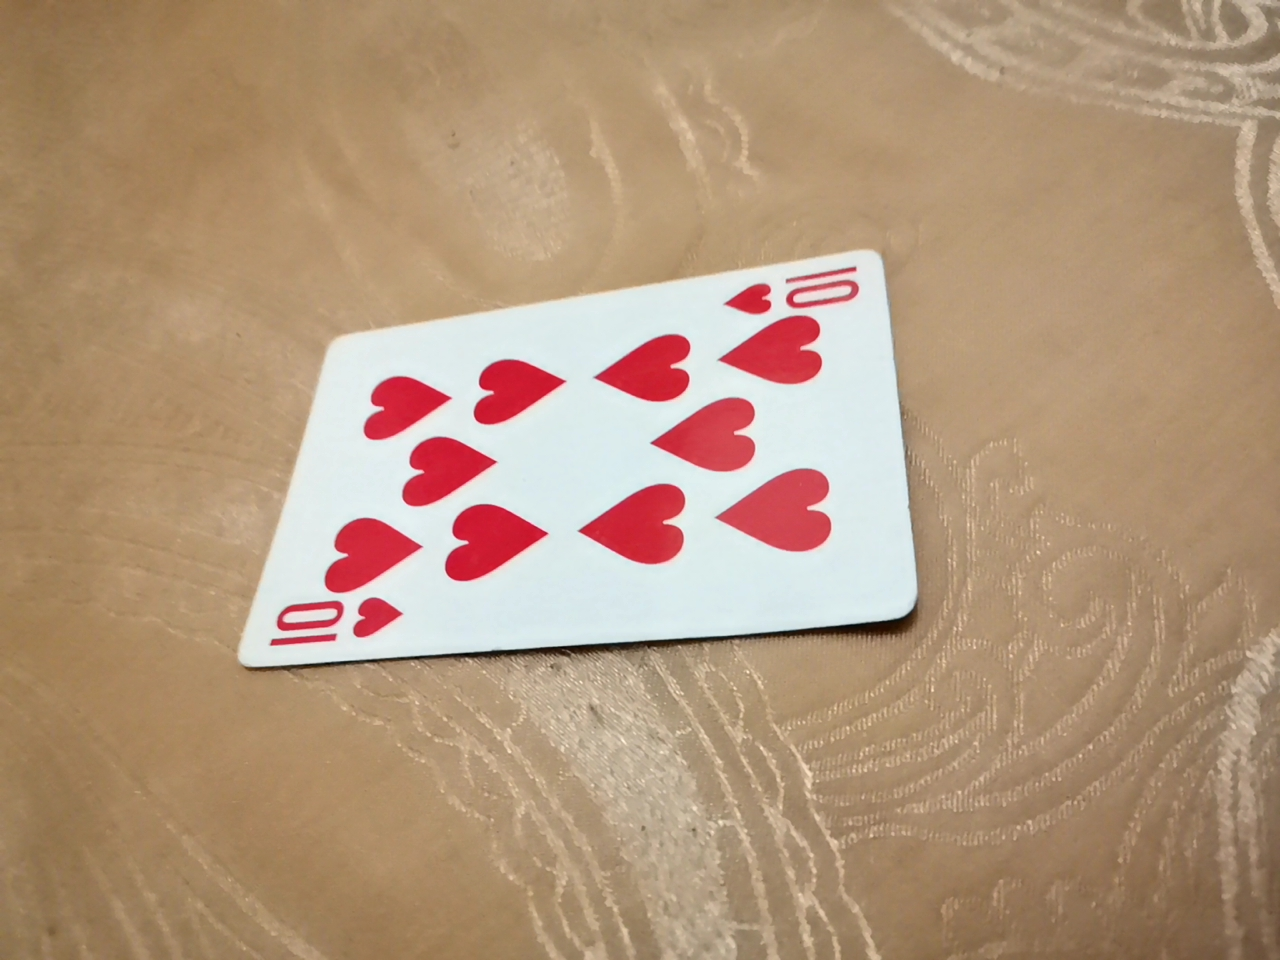hx 10: (259, 243, 930, 675)
